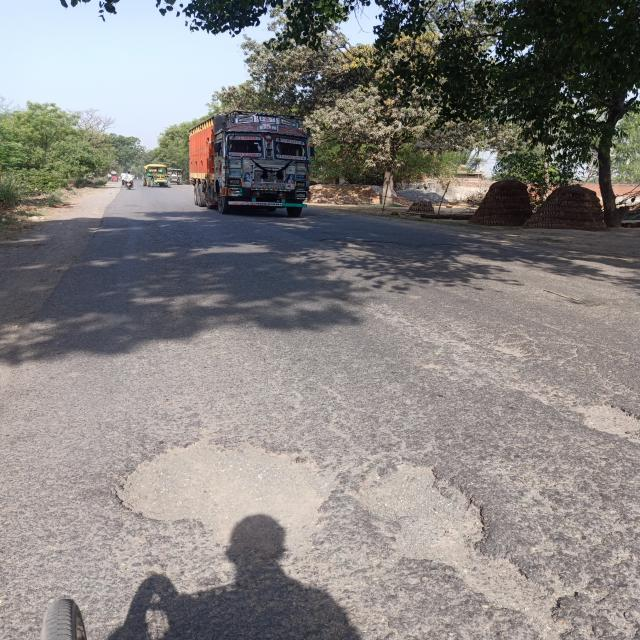Truck: (176, 96, 318, 227)
